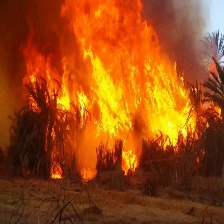fire: (17, 2, 199, 165)
